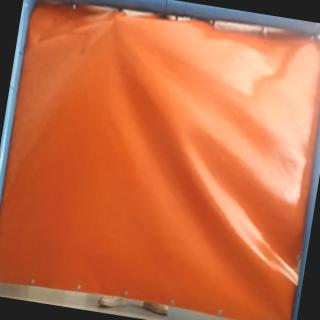Hit-hRxx: (108, 13, 125, 26)
